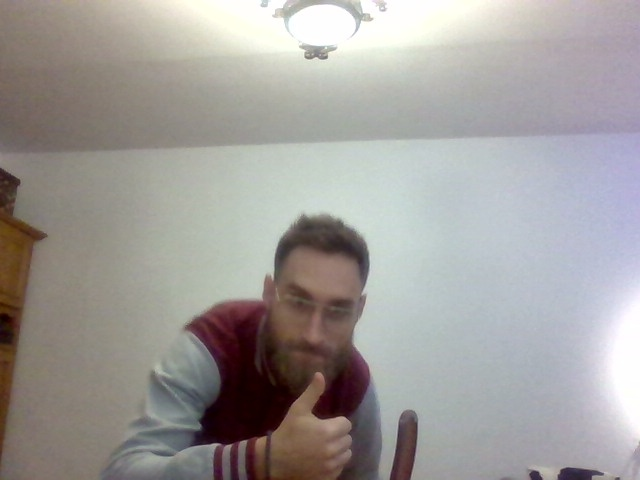ThumbsUp: (279, 372, 351, 480)
